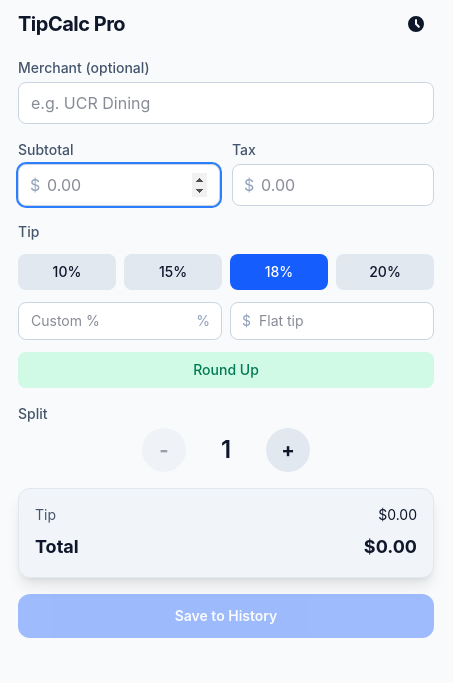
Test: App › splits between guests
Step 1. Type "100" into the number field labelled "Subtotal" → [119, 185], box x1=18 y1=164 x2=220 y2=206
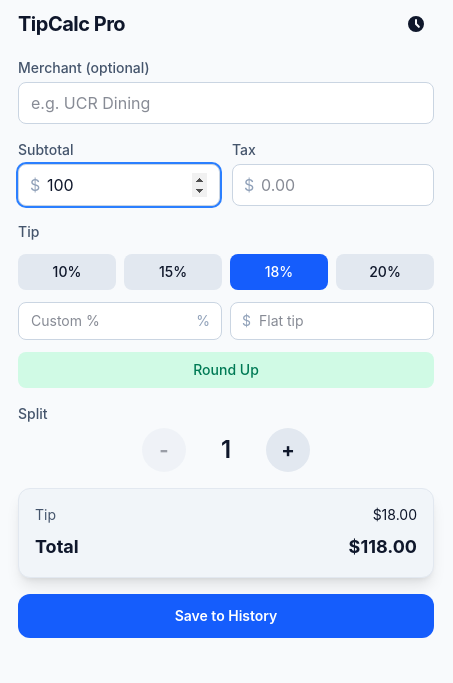
Step 2. Type "0" into the number field labelled "Tax" → [333, 185], box x1=232 y1=164 x2=434 y2=206
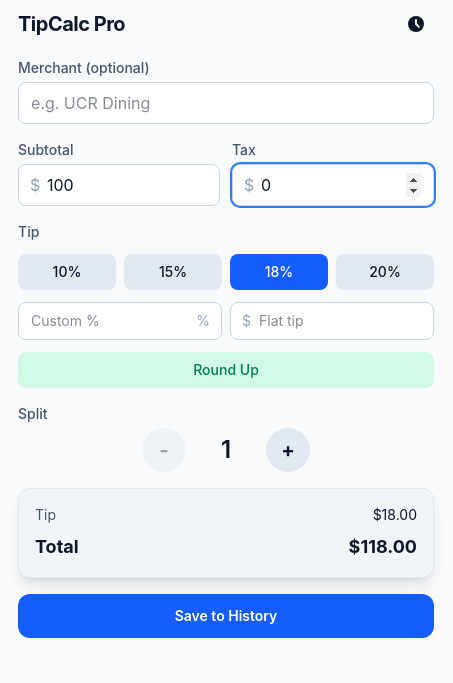
Step 3. Click the button "20%" → [385, 272], box x1=336 y1=254 x2=434 y2=290
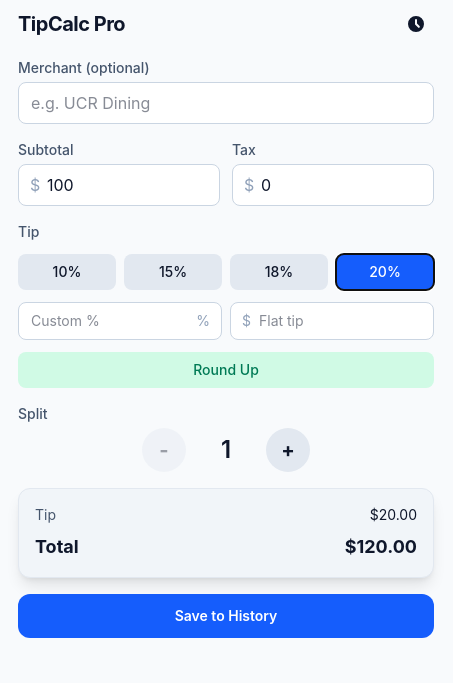
Step 4. Click the button named "Increase guests" → [288, 450], box x1=266 y1=428 x2=310 y2=472
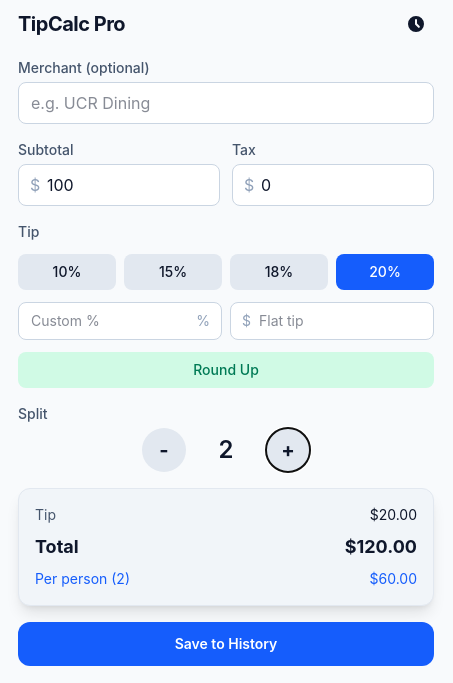
Step 5. Click the button named "Increase guests" → [288, 450], box x1=266 y1=428 x2=310 y2=472
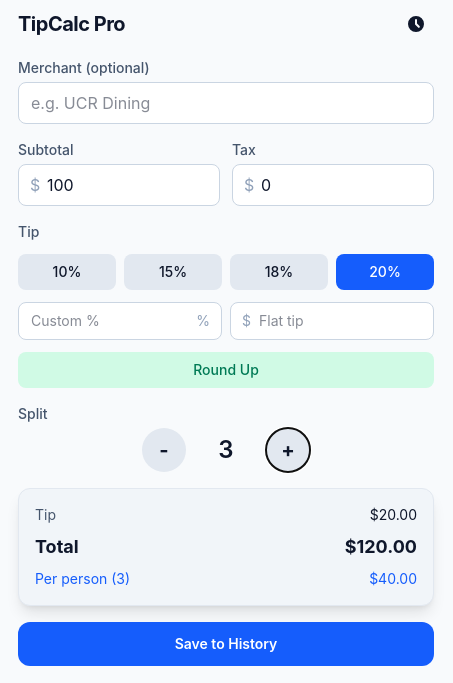
Now the text "Per person (3)" is shown, box x1=35 y1=569 x2=130 y2=589
Now the text "$40.00" is shown, box x1=369 y1=569 x2=417 y2=589
